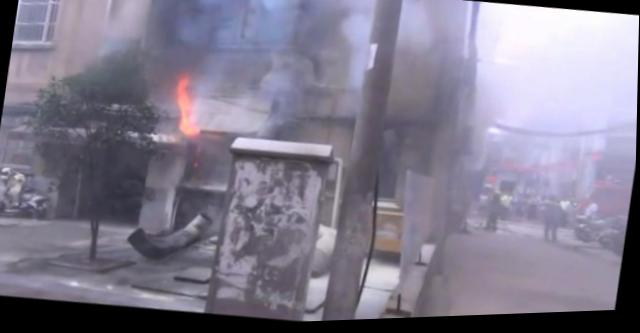fire: (177, 97, 192, 132), (176, 80, 187, 109), (184, 123, 200, 138)
